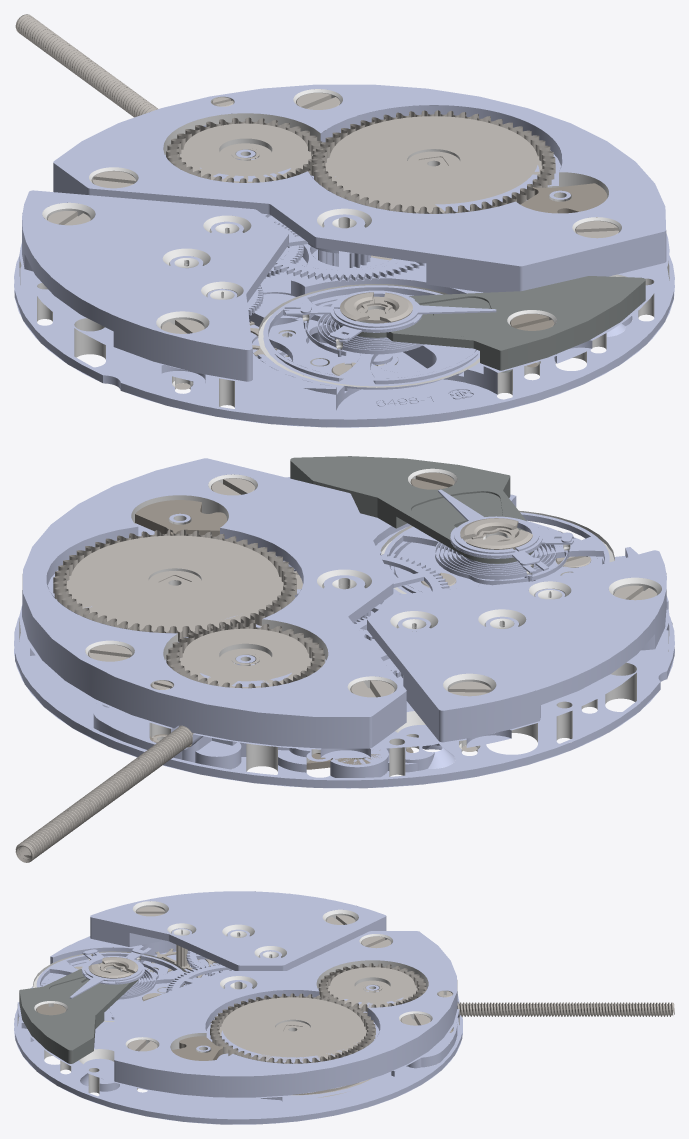
Rendered from ETA 6498-1 Web.glb.
3 views of the same model, one above another, from view 1: azimuth 30°, elevation 25°; view 2: azimuth 150°, elevation 25°; view 3: azimuth 270°, elevation 25° (orthographic). The views are drawn at different scales.
Visible parts, largest first — view 1: ETA 6498-1 Movement.IGS.021, ETA 6498-1 Movement.IGS, ETA 6498-1 Movement.IGS.017, ETA 6498-1 Movement.IGS.027, ETA 6498-1 Movement.IGS.036, ETA 6498-1 Movement.IGS.026, ETA 6498-1 Movement.IGS.037, ETA 6498-1 Movement.IGS.034, ETA 6498-1 Movement.IGS.014, ETA 6498-1 Movement.IGS.040, ETA 6498-1 Movement.IGS.011, ETA 6498-1 Movement.IGS.042 (+5 smaller); view 2: ETA 6498-1 Movement.IGS.021, ETA 6498-1 Movement.IGS.017, ETA 6498-1 Movement.IGS, ETA 6498-1 Movement.IGS.027, ETA 6498-1 Movement.IGS.036, ETA 6498-1 Movement.IGS.026, ETA 6498-1 Movement.IGS.037, ETA 6498-1 Movement.IGS.014, ETA 6498-1 Movement.IGS.040, ETA 6498-1 Movement.IGS.028, ETA 6498-1 Movement.IGS.034, ETA 6498-1 Movement.IGS.042 (+5 smaller); view 3: ETA 6498-1 Movement.IGS.021, ETA 6498-1 Movement.IGS, ETA 6498-1 Movement.IGS.017, ETA 6498-1 Movement.IGS.027, ETA 6498-1 Movement.IGS.036, ETA 6498-1 Movement.IGS.026, ETA 6498-1 Movement.IGS.014, ETA 6498-1 Movement.IGS.037, ETA 6498-1 Movement.IGS.040, ETA 6498-1 Movement.IGS.028, ETA 6498-1 Movement.IGS.042, ETA 6498-1 Movement.IGS.034 (+3 smaller).
Part boxes in pixels (left/top/right/bottom): ETA 6498-1 Movement.IGS.021: left=53, top=84, right=666, bottom=292; ETA 6498-1 Movement.IGS: left=14, top=121, right=674, bottom=427; ETA 6498-1 Movement.IGS.017: left=22, top=190, right=288, bottom=381; ETA 6498-1 Movement.IGS.027: left=311, top=110, right=555, bottom=213; ETA 6498-1 Movement.IGS.036: left=339, top=276, right=645, bottom=372; ETA 6498-1 Movement.IGS.026: left=166, top=117, right=324, bottom=182; ETA 6498-1 Movement.IGS.037: left=258, top=284, right=479, bottom=387; ETA 6498-1 Movement.IGS.034: left=268, top=300, right=477, bottom=391; ETA 6498-1 Movement.IGS.014: left=15, top=14, right=157, bottom=117; ETA 6498-1 Movement.IGS.040: left=284, top=290, right=496, bottom=356; ETA 6498-1 Movement.IGS.011: left=262, top=213, right=424, bottom=281; ETA 6498-1 Movement.IGS.042: left=340, top=292, right=412, bottom=323; ETA 6498-1 Movement.IGS.021: left=22, top=458, right=406, bottom=748; ETA 6498-1 Movement.IGS.017: left=367, top=550, right=666, bottom=742; ETA 6498-1 Movement.IGS: left=14, top=477, right=674, bottom=788; ETA 6498-1 Movement.IGS.027: left=53, top=529, right=296, bottom=641; ETA 6498-1 Movement.IGS.036: left=290, top=456, right=533, bottom=563; ETA 6498-1 Movement.IGS.026: left=166, top=623, right=325, bottom=688; ETA 6498-1 Movement.IGS.037: left=380, top=510, right=614, bottom=593; ETA 6498-1 Movement.IGS.014: left=15, top=725, right=193, bottom=862; ETA 6498-1 Movement.IGS.040: left=438, top=489, right=573, bottom=581; ETA 6498-1 Movement.IGS.028: left=135, top=500, right=226, bottom=536; ETA 6498-1 Movement.IGS.034: left=394, top=526, right=598, bottom=592; ETA 6498-1 Movement.IGS.042: left=460, top=518, right=532, bottom=549; ETA 6498-1 Movement.IGS.021: left=114, top=931, right=457, bottom=1097; ETA 6498-1 Movement.IGS: left=14, top=936, right=462, bottom=1124; ETA 6498-1 Movement.IGS.017: left=90, top=891, right=386, bottom=970; ETA 6498-1 Movement.IGS.027: left=210, top=993, right=375, bottom=1063; ETA 6498-1 Movement.IGS.036: left=19, top=962, right=138, bottom=1063; ETA 6498-1 Movement.IGS.026: left=318, top=963, right=426, bottom=1012; ETA 6498-1 Movement.IGS.014: left=457, top=1002, right=674, bottom=1016; ETA 6498-1 Movement.IGS.037: left=33, top=951, right=187, bottom=1021; ETA 6498-1 Movement.IGS.040: left=69, top=945, right=151, bottom=998; ETA 6498-1 Movement.IGS.028: left=171, top=1036, right=226, bottom=1060; ETA 6498-1 Movement.IGS.042: left=88, top=957, right=138, bottom=978; ETA 6498-1 Movement.IGS.034: left=45, top=963, right=170, bottom=1015.
Size of the model in its own units: 0.0372 by 0.00593 by 0.0547.
